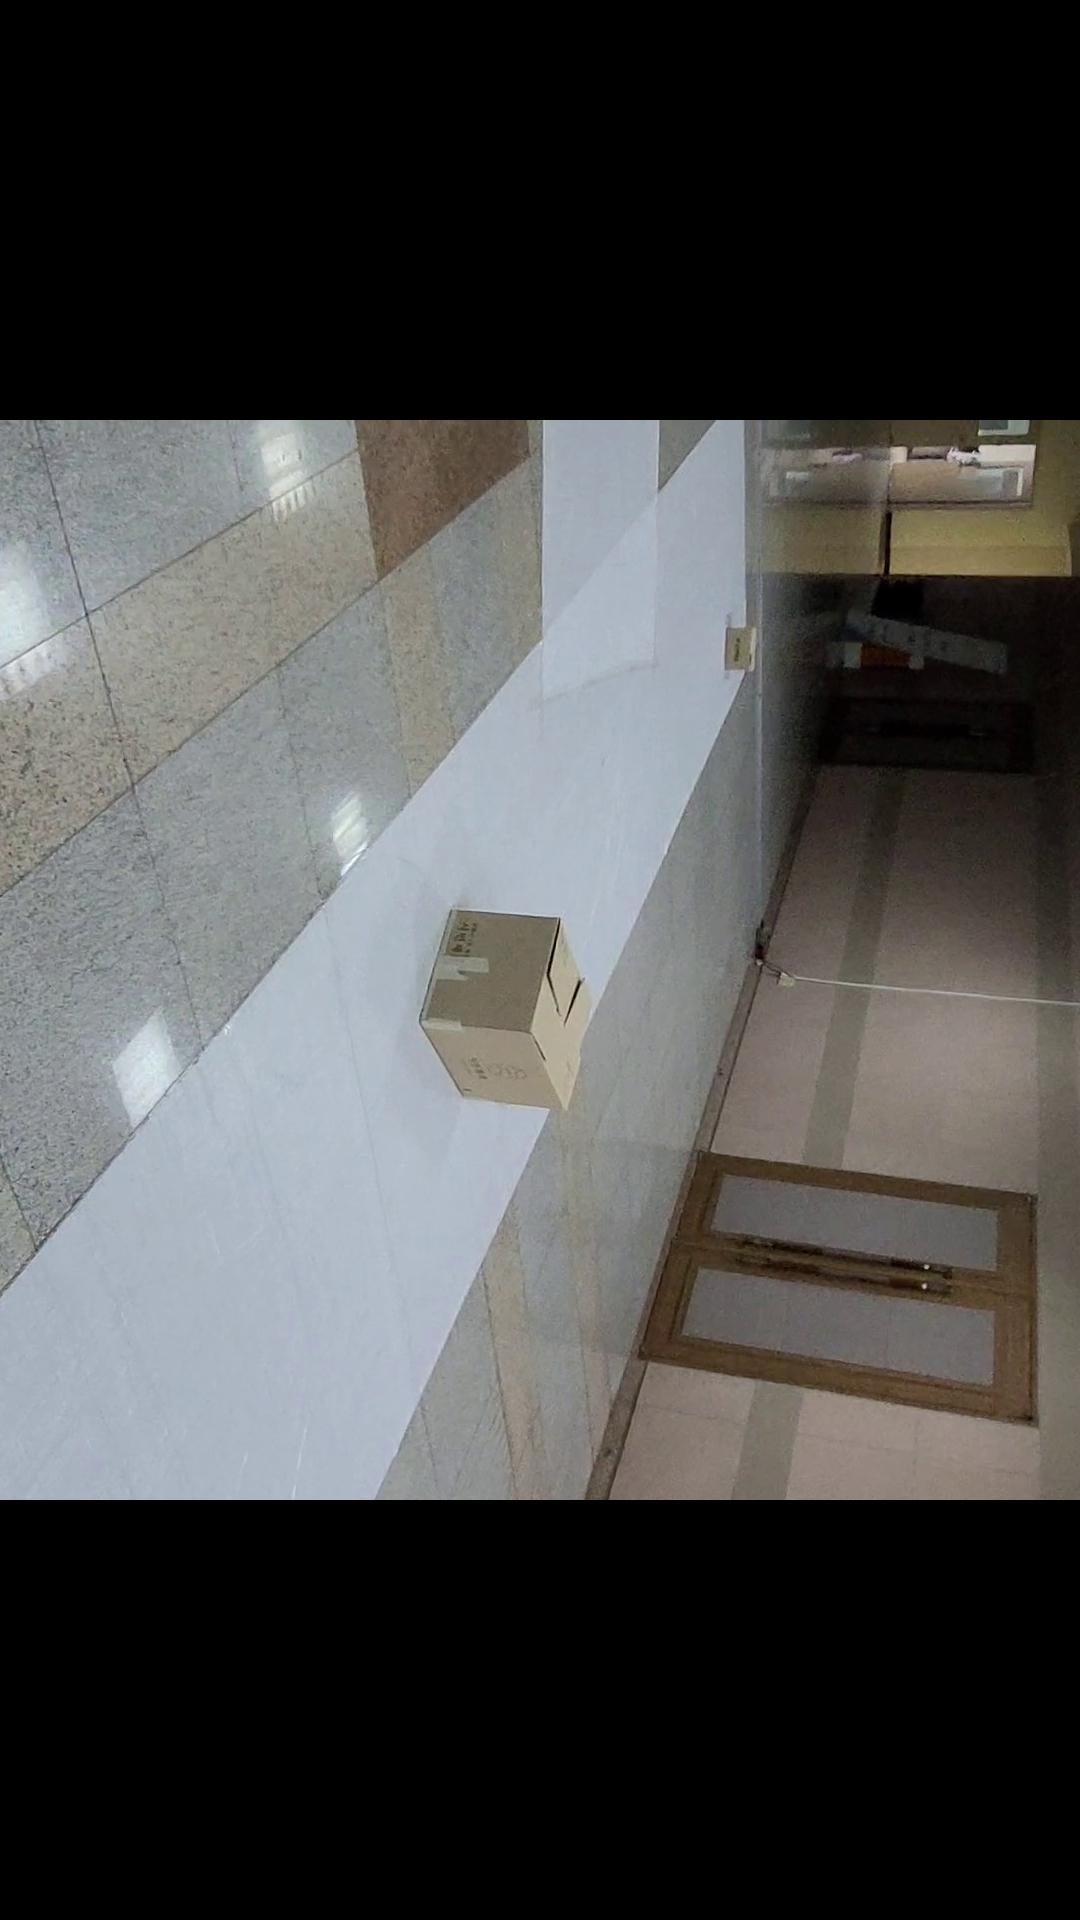Box: (396, 884, 620, 1134), (690, 608, 790, 705)
